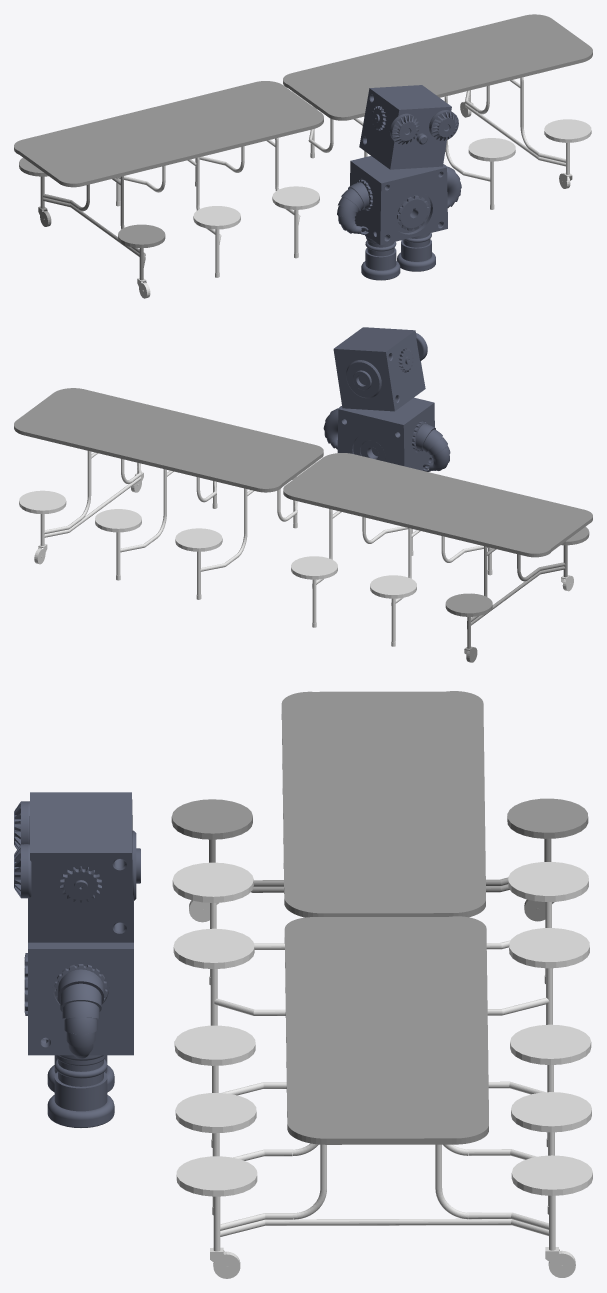
The model's file is cafeugly.fbx.
The picture shows the model from 3 angles, top to bottom: view 1: azimuth 30°, elevation 25°; view 2: azimuth 150°, elevation 25°; view 3: azimuth 270°, elevation 25°; orthographic projection. The views are drawn at different scales.
Parts seen in each view (by area): view 1: MeshBody1 (×5), MeshBody2 (×5), Body1, MeshBody3; view 2: MeshBody1 (×5), MeshBody2 (×4), Body1, MeshBody3 (×2); view 3: MeshBody1 (×7), MeshBody2 (×4), Body1, MeshBody3 (×4).
Boxes of the visible parts, left/top/right/bottom form: MeshBody1 (×5): left=14, top=77, right=565, bottom=280; MeshBody2 (×5): left=19, top=14, right=592, bottom=226; Body1: left=337, top=85, right=461, bottom=280; MeshBody3: left=468, top=138, right=515, bottom=209; MeshBody1 (×5): left=19, top=451, right=592, bottom=628; MeshBody2 (×4): left=14, top=388, right=492, bottom=662; Body1: left=323, top=327, right=450, bottom=471; MeshBody3 (×2): left=291, top=556, right=416, bottom=646; MeshBody1 (×7): left=171, top=691, right=592, bottom=1277; MeshBody2 (×4): left=176, top=798, right=588, bottom=1278; Body1: left=14, top=792, right=140, bottom=1127; MeshBody3 (×4): left=174, top=862, right=589, bottom=1215.
Size of the model in its own units: 3975 by 1238 by 2172.
